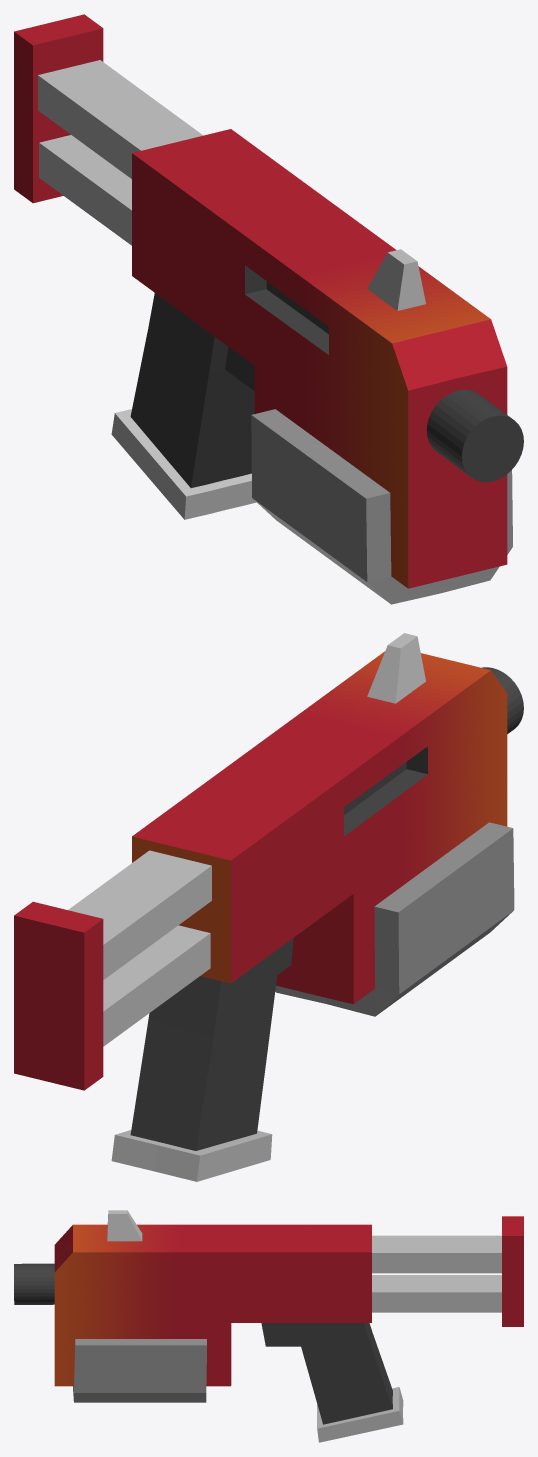
File: shooty.fbx
3 renders of one model, top to bottom at view 1: azimuth 30°, elevation 25°; view 2: azimuth 150°, elevation 25°; view 3: azimuth 270°, elevation 25°, orthographic. The views are drawn at different scales.
Visible parts, largest first — view 1: Cube; view 2: Cube; view 3: Cube.
Part boxes in pixels (bbox=[...]): Cube: bbox=[14, 14, 523, 604]; Cube: bbox=[14, 633, 523, 1181]; Cube: bbox=[14, 1210, 523, 1442].
Bounding box in the file's own units: 9.65 × 24.08 × 50.9.
